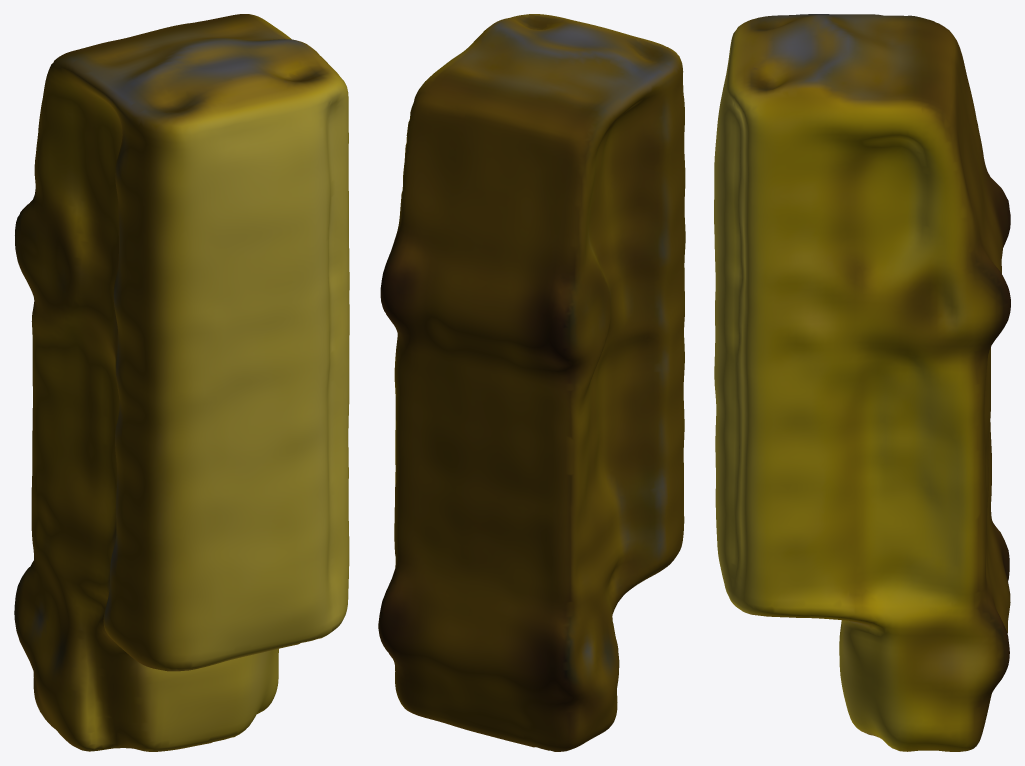
The model's file is school_bus1.glb.
3 views of the same model, side by side, from view 1: azimuth 30°, elevation 25°; view 2: azimuth 150°, elevation 25°; view 3: azimuth 270°, elevation 25° (orthographic). The views are drawn at different scales.
Size of the model in its own units: 0.3279 by 0.9997 by 0.4003.
